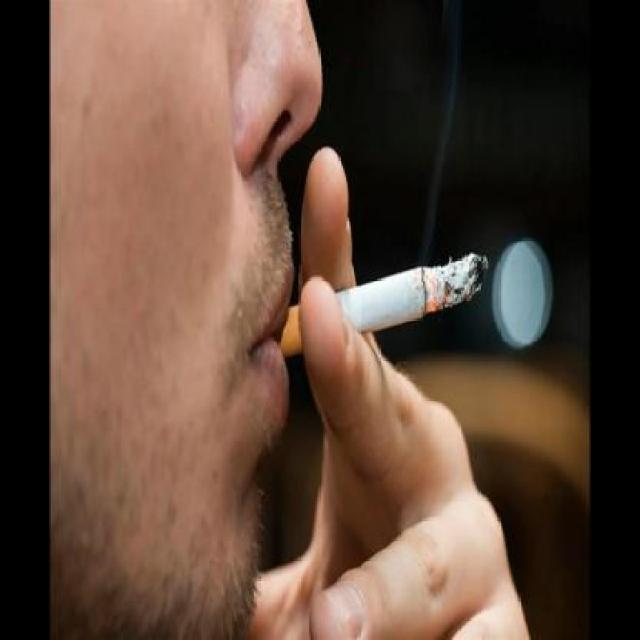smoke: (229, 140, 488, 469)
